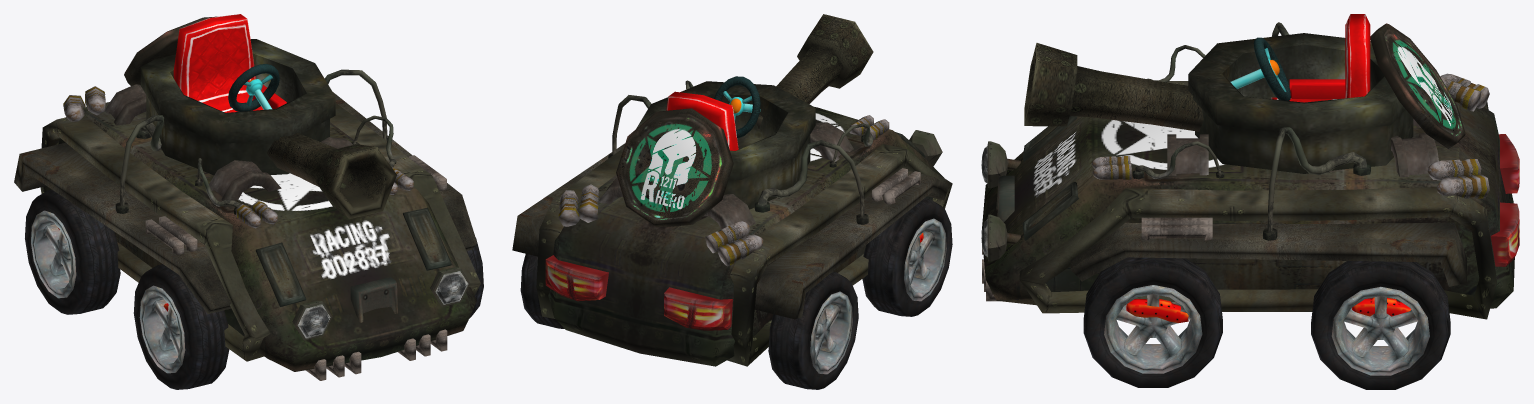
Rendered from Cartoon Kart 04.fbx.
3 renders of one model, left to right at view 1: azimuth 30°, elevation 25°; view 2: azimuth 150°, elevation 25°; view 3: azimuth 270°, elevation 25°, orthographic. The views are drawn at different scales.
Parts seen in each view (by area): view 1: LCRG_Kart_04_GT, Wheel_BR, Wheel_FR, Kart_01sit__1_, Stearing_Wheel__1_, F_ligths, Wheel_FR__1_; view 2: LCRG_Kart_04_GT, Wheel_FR, Wheel_BR, B_ligths, Kart_01sit__1_, Stearing_Wheel__1_, Wheel_BR__1_; view 3: LCRG_Kart_04_GT, Wheel_BR__1_, Wheel_FR__1_, Kart_01sit__1_, B_ligths, Stearing_Wheel__1_, Break_FR__1_, Break_BR__1_.
Part boxes in pixels (bbox=[...]): LCRG_Kart_04_GT: bbox=[14, 16, 480, 380]; Wheel_BR: bbox=[25, 189, 120, 314]; Wheel_FR: bbox=[133, 264, 229, 389]; Kart_01sit__1_: bbox=[173, 14, 286, 112]; Stearing_Wheel__1_: bbox=[228, 64, 279, 111]; F_ligths: bbox=[299, 272, 466, 336]; Wheel_FR__1_: bbox=[466, 237, 483, 318]; LCRG_Kart_04_GT: bbox=[512, 14, 952, 366]; Wheel_FR: bbox=[862, 198, 952, 316]; Wheel_BR: bbox=[768, 271, 858, 389]; B_ligths: bbox=[545, 255, 732, 330]; Kart_01sit__1_: bbox=[666, 91, 738, 150]; Stearing_Wheel__1_: bbox=[714, 76, 760, 138]; Wheel_BR__1_: bbox=[520, 254, 564, 328]; LCRG_Kart_04_GT: bbox=[981, 22, 1514, 319]; Wheel_BR__1_: bbox=[1311, 261, 1450, 389]; Wheel_FR__1_: bbox=[1083, 257, 1222, 387]; Kart_01sit__1_: bbox=[1271, 14, 1370, 102]; B_ligths: bbox=[1490, 134, 1519, 266]; Stearing_Wheel__1_: bbox=[1230, 37, 1290, 100]; Break_FR__1_: bbox=[1126, 299, 1188, 322]; Break_BR__1_: bbox=[1352, 297, 1410, 316].
Bounding box in the file's own units: 214 × 179 × 304.
